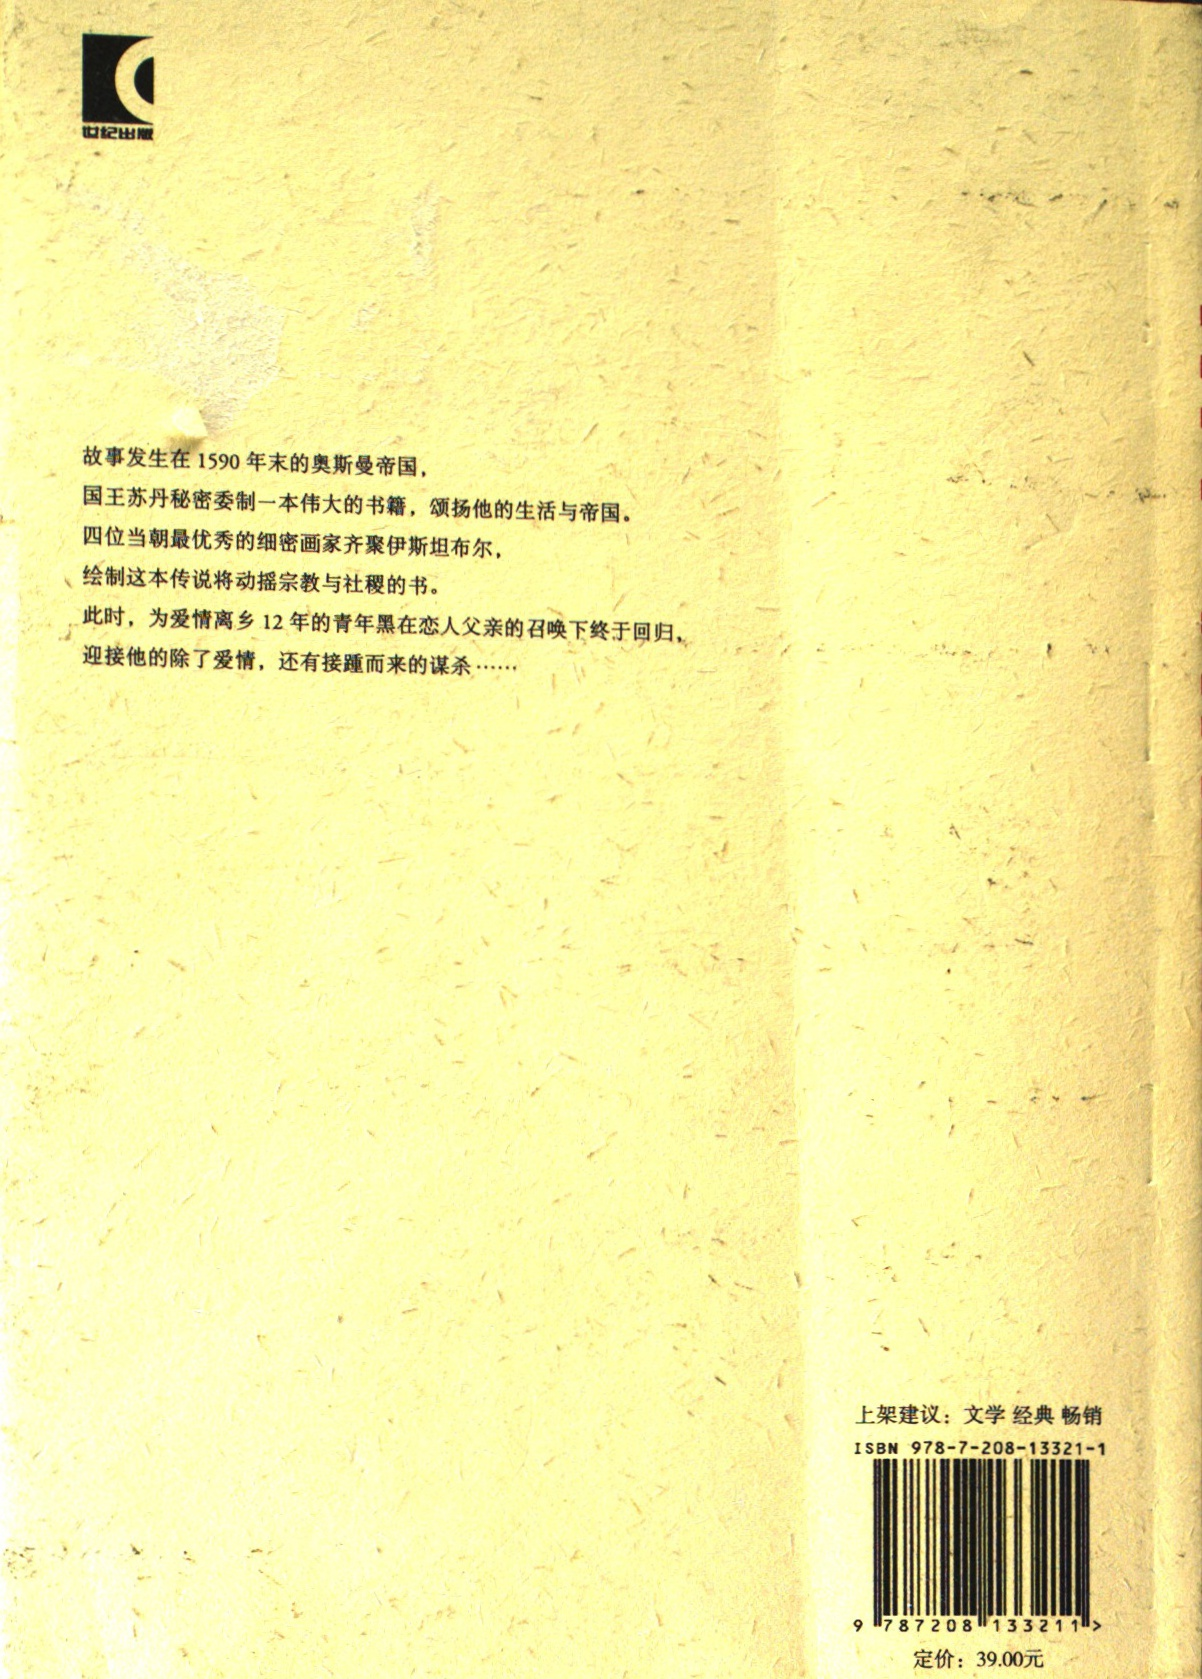barcode: (827, 1366, 1127, 1645)
